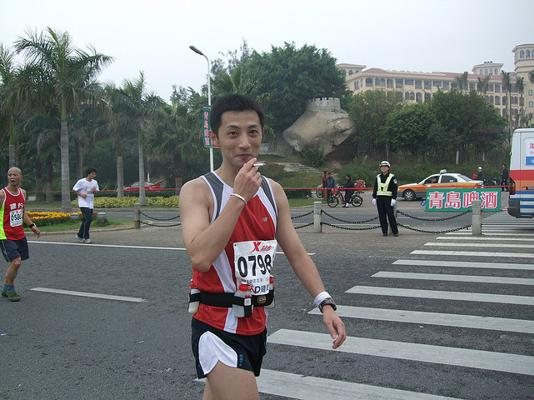person: (179, 93, 347, 400)
